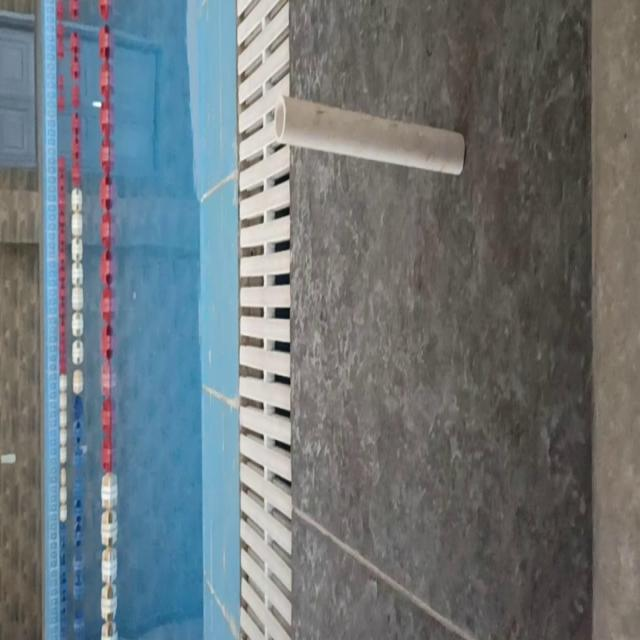Cube: (274, 90, 466, 178)
